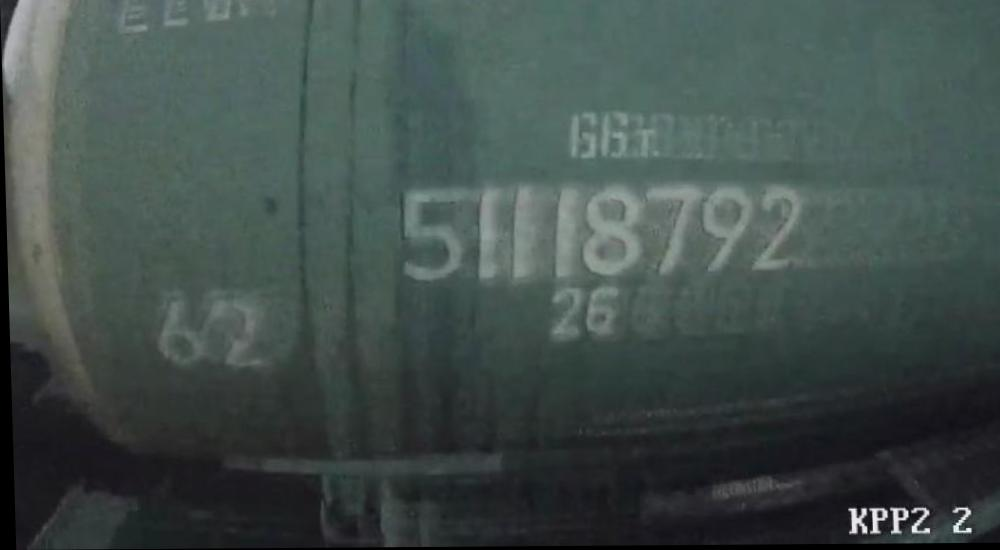Wagon-number: (388, 175, 803, 287)
